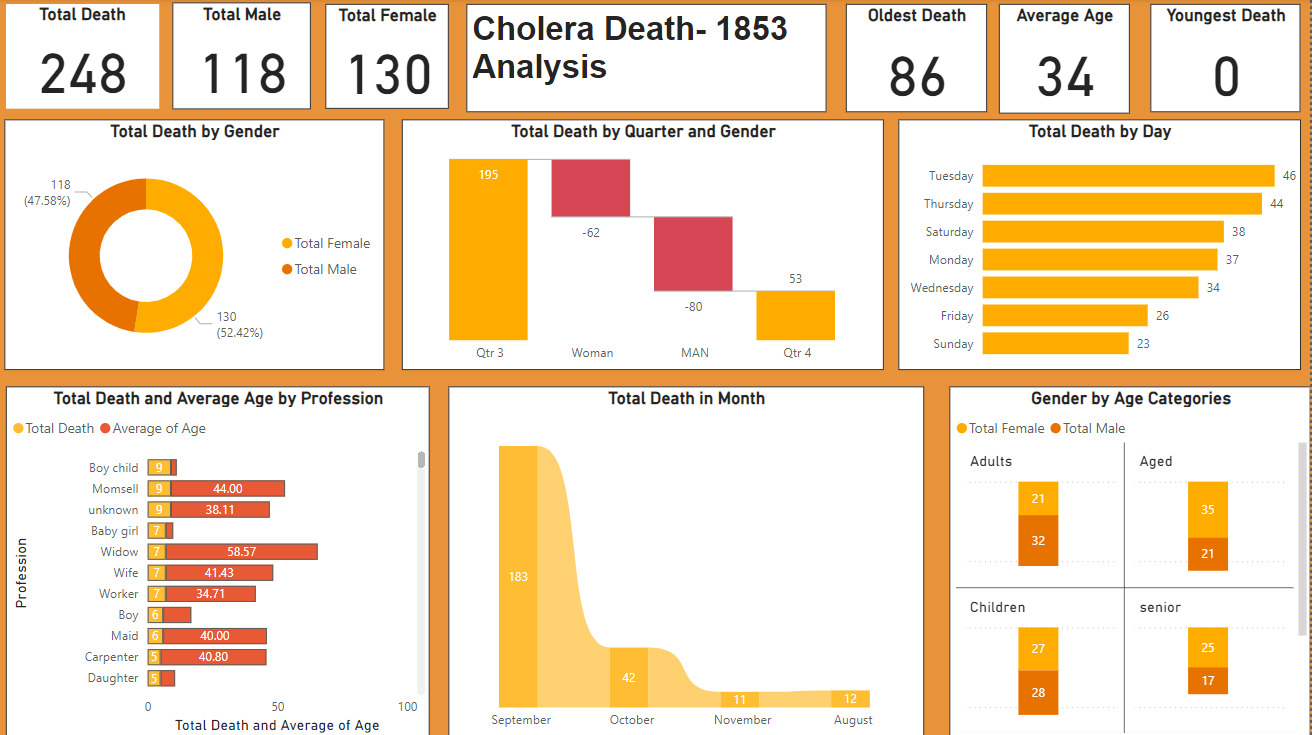

The dashboard page shown, as its layout file describes it:
{"tool":"powerbi","page":{"name":"Page 1","canvas":[1280,720],"ordinal":0},"visuals":[{"type":"card","title":"Total Death","fields":{"Values":["DAX.Total Death"]},"box":[8.8,5.8,149.1,102.3],"z":0},{"type":"card","title":"Total Male","fields":{"Values":["DAX.Total Male"]},"box":[171,4.4,134.5,103.8],"z":1000},{"type":"card","title":"Total Female","fields":{"Values":["DAX.Total Female"]},"box":[320.1,5.8,119.8,102.3],"z":2000},{"type":"card","title":"Oldest Death","fields":{"Values":["DAX.oldest death"]},"box":[827.2,5.8,137.4,105.2],"z":3000},{"type":"card","title":"Average Age","fields":{"Values":["DAX.Average Age"]},"box":[976.3,5.8,127.1,106.7],"z":4000},{"type":"card","title":"Youngest Death ","fields":{"Values":["DAX.Youngest death"]},"box":[1123.9,5.8,146.1,105.2],"z":5000},{"type":"ribbonChart","title":"Total Death in Month","fields":{"Y":["DAX.Total Death"],"Category":["cholera.Month Name"]},"box":[439.4,378,463.1,341.8],"z":6000},{"type":"barChart","title":"Total Death and Average Age by Profession","fields":{"Category":["cholera.Profession"],"Y":["DAX.Total Death","Avg(cholera.Age)"]},"box":[9.5,378,412.7,341.8],"z":7000},{"type":"donutChart","title":"Total Death by Gender","fields":{"Y":["DAX.Total Female","DAX.Total Male"]},"box":[7.3,118.4,369.8,244.1],"z":8000},{"type":"columnChart","title":"Gender by Age Categories","fields":{"Y":["DAX.Total Female","DAX.Total Male"],"Rows":["cholera.Age Categories"]},"box":[927.7,378,352.8,341.8],"z":9000},{"type":"waterfallChart","title":"Total Death by Quarter and Gender","fields":{"Category":["cholera.Date of death.Variation.Date Hierarchy.Quarter"],"Y":["DAX.Total Death"],"Breakdown":["cholera.Sex"]},"box":[394.6,118.4,469.1,244.1],"z":10000},{"type":"clusteredBarChart","title":"Total Death by Day","fields":{"Category":["cholera.Day Name"],"Y":["DAX.Total Death"]},"box":[878.3,118.4,391.7,244.1],"z":11000},{"type":"textbox","box":[457.4,5.8,350.8,105.2],"z":12000}]}

Visuals, with their boxes in screenshot pixels (x1, y1, x2, y2), scaled from the page's 1280x720 canvas onto the 1312x735 screenshot:
"Total Death" card: l=9, t=6, r=162, b=110
"Total Male" card: l=175, t=4, r=313, b=110
"Total Female" card: l=328, t=6, r=451, b=110
"Oldest Death" card: l=848, t=6, r=989, b=113
"Average Age" card: l=1001, t=6, r=1131, b=115
"Youngest Death " card: l=1152, t=6, r=1302, b=113
"Total Death in Month" ribbonChart: l=450, t=386, r=925, b=734
"Total Death and Average Age by Profession" barChart: l=10, t=386, r=433, b=734
"Total Death by Gender" donutChart: l=7, t=121, r=387, b=370
"Gender by Age Categories" columnChart: l=951, t=386, r=1311, b=734
"Total Death by Quarter and Gender" waterfallChart: l=404, t=121, r=885, b=370
"Total Death by Day" clusteredBarChart: l=900, t=121, r=1302, b=370
textbox: l=469, t=6, r=828, b=113
